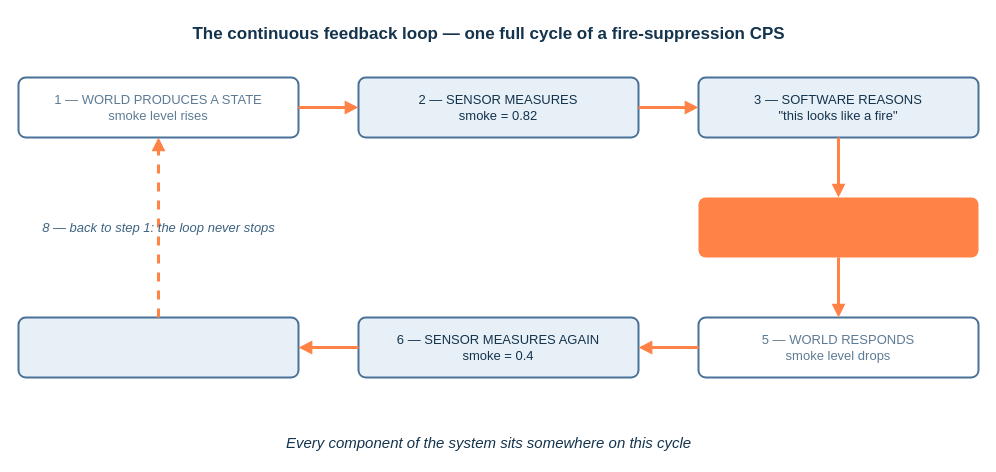
Some shapes in this 996 by 472 pixel diagram are drawn without their labels. The centre of each missing label's shape, as x and y in pixels:
4 — ACTUATOR CHANGES THE WORLD sprinkler on: (x=838, y=227)
7 — SOFTWARE NOTICES AND ADAPTS "working — consider easing off": (x=158, y=347)
